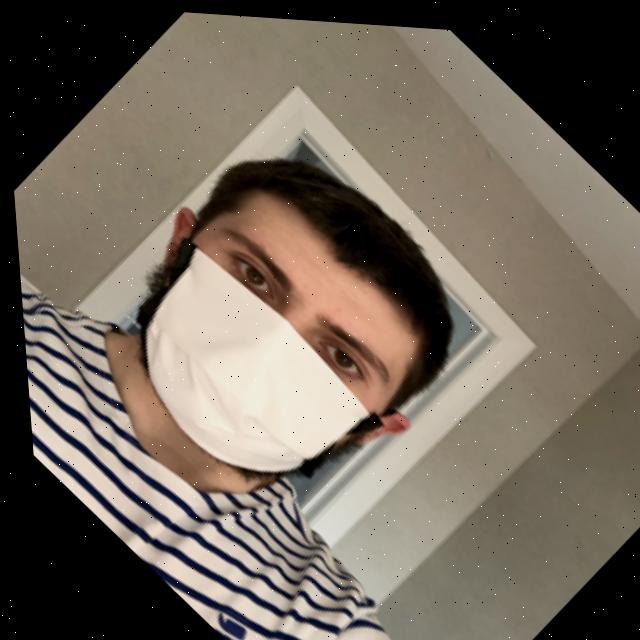Mask: (59, 190, 425, 552)
